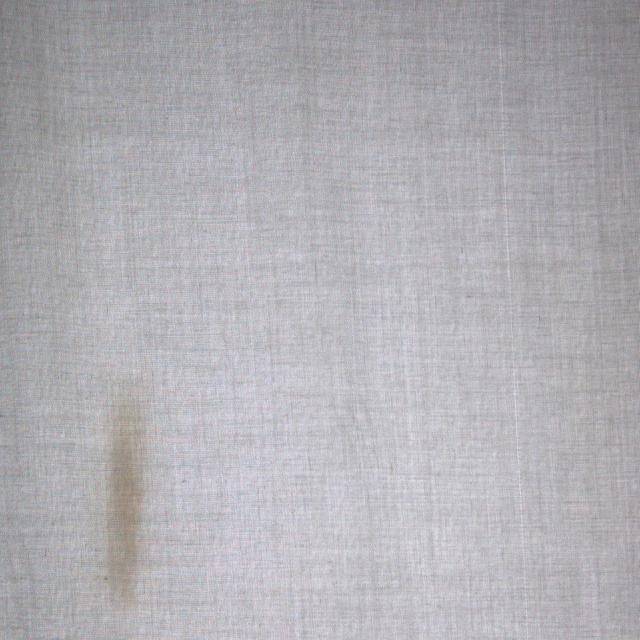dirty: (104, 392, 142, 586)
